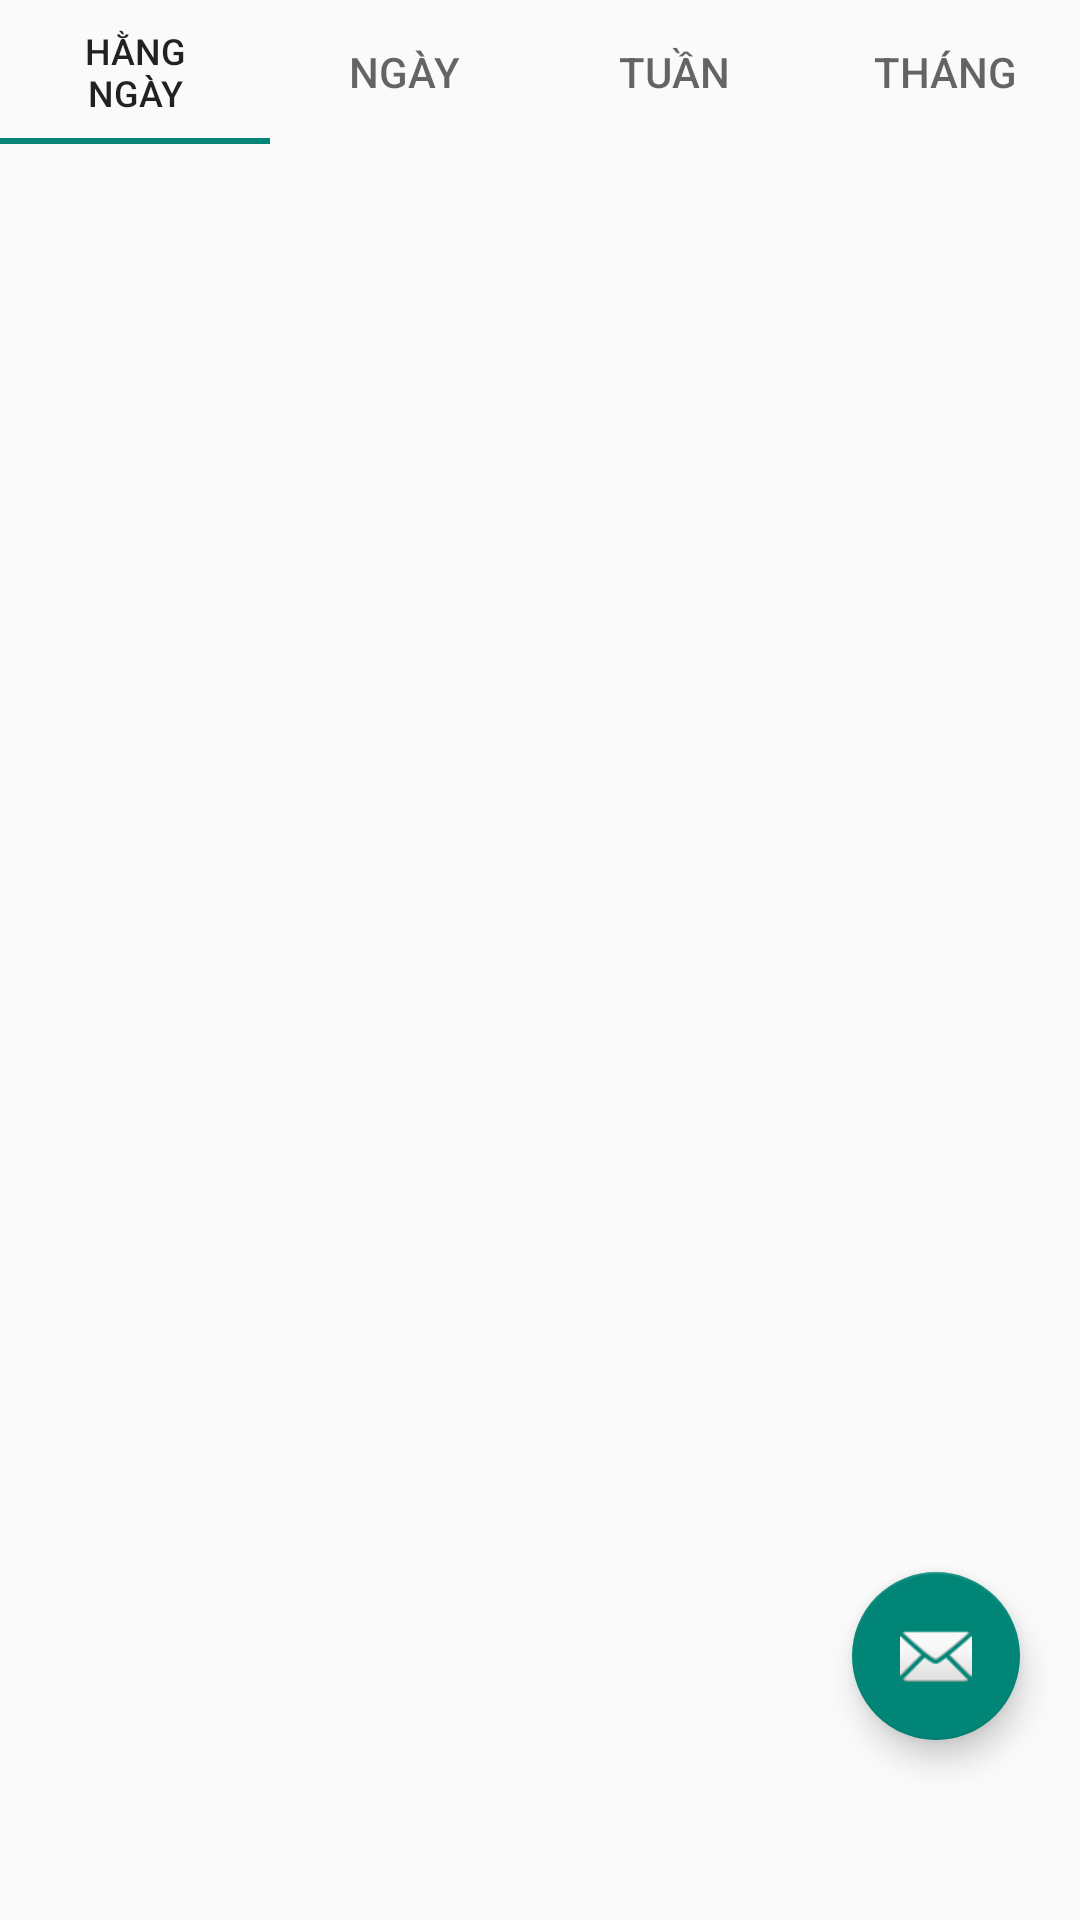

Named icons in this screenshot (1080w x 1920h) and their centers, [x,y]:
email: [936,1656]
